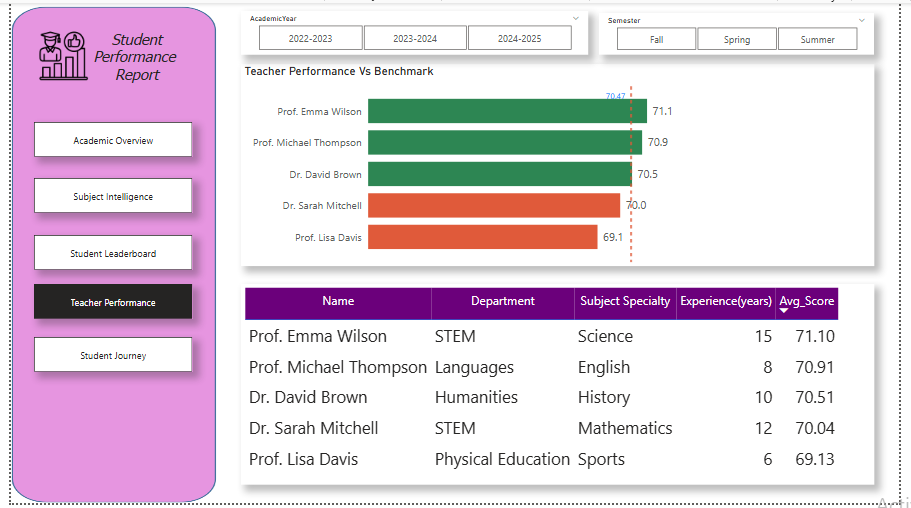

The dashboard page shown, as its layout file describes it:
{"tool":"powerbi","page":{"name":"Teacher Performance","canvas":[1280,720],"ordinal":3},"visuals":[{"type":"clusteredBarChart","title":"Teacher Performance Vs Benchmark","fields":{"Category":["DimTeachers.Full Name"],"Y":["Measures (2).Avg_Score"]},"box":[331.2,87.8,911.5,290.9],"z":0},{"type":"slicer","fields":{"Values":["DimCalendar.AcademicYear"]},"box":[331.2,11.5,499.7,63.4],"z":1000},{"type":"slicer","fields":{"Values":["DimCalendar.Semester"]},"box":[846.7,14.4,396,60.5],"z":2000},{"type":"tableEx","title":"Top 5 Teachers","fields":{"Values":["DimTeachers.Full Name","DimTeachers.Department","DimTeachers.SubjectSpecialty","DimTeachers.YearsExperience","Measures (2).Avg_Score"]},"box":[331.2,404.6,911.5,289.4],"z":3000},{"type":"image","box":[0,4.3,296.6,715.7],"z":4000},{"type":"pageNavigator","box":[33.1,171.4,229,50.4],"z":5000},{"type":"pageNavigator","box":[33.1,481,229,50.4],"z":6000},{"type":"pageNavigator","box":[33.1,404.6,229,50.4],"z":7000},{"type":"pageNavigator","box":[33.1,334.1,229,50.4],"z":8000},{"type":"pageNavigator","box":[33.1,252,229,50.4],"z":9000},{"type":"image","box":[40.3,34.6,70.6,83.5],"z":10000},{"type":"textbox","box":[99.4,34.6,162.7,102.2],"z":11000}]}

Visuals, with their boxes in screenshot pixels (x1, y1, x2, y2), scaled from the page's 1280x720 canvas onto the 911x508 screenshot:
"Teacher Performance Vs Benchmark" clusteredBarChart: [236,62,884,267]
slicer - DimCalendar.AcademicYear: [236,8,591,53]
slicer - DimCalendar.Semester: [603,10,884,53]
"Top 5 Teachers" tableEx: [236,285,884,490]
image: [0,3,211,507]
pageNavigator: [24,121,187,156]
pageNavigator: [24,339,187,375]
pageNavigator: [24,285,187,321]
pageNavigator: [24,236,187,271]
pageNavigator: [24,178,187,213]
image: [29,24,79,83]
textbox: [71,24,187,97]
